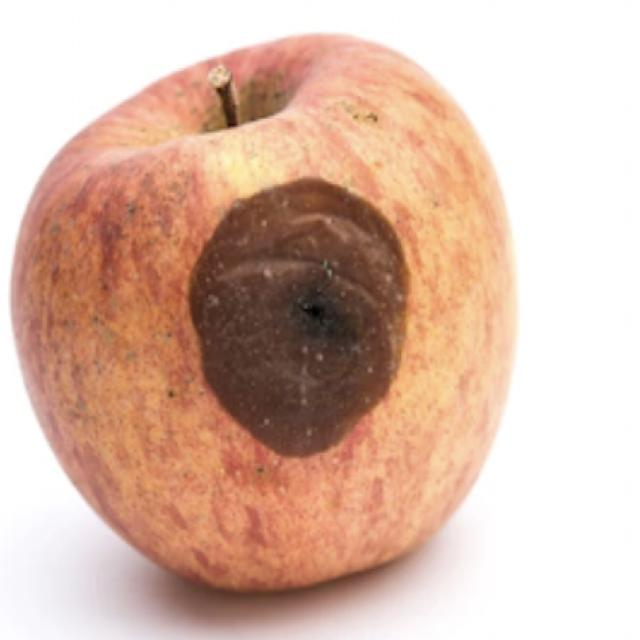rotten_apple: (16, 32, 513, 602)
